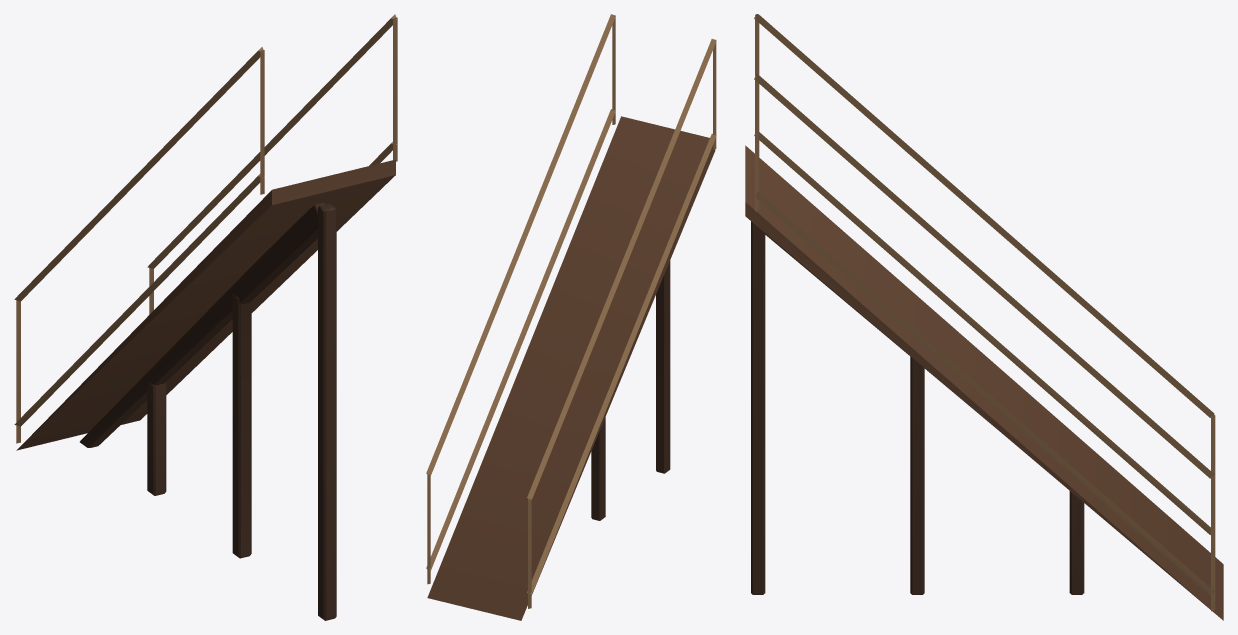
File: qb_ramp_narrow_wood_lod1.glb
The picture shows the model from 3 angles, left to right: view 1: azimuth 30°, elevation 25°; view 2: azimuth 150°, elevation 25°; view 3: azimuth 270°, elevation 25°; orthographic projection. The views are drawn at different scales.
Visible parts, largest first — view 1: qb_ramp_narrow_wood; view 2: qb_ramp_narrow_wood; view 3: qb_ramp_narrow_wood.
Boxes of the visible parts, <box> form: qb_ramp_narrow_wood: <box>14,14,397,620</box>; qb_ramp_narrow_wood: <box>426,14,716,620</box>; qb_ramp_narrow_wood: <box>745,14,1223,620</box>.
Size of the model in its own units: 0.9396 by 3.8 by 3.
